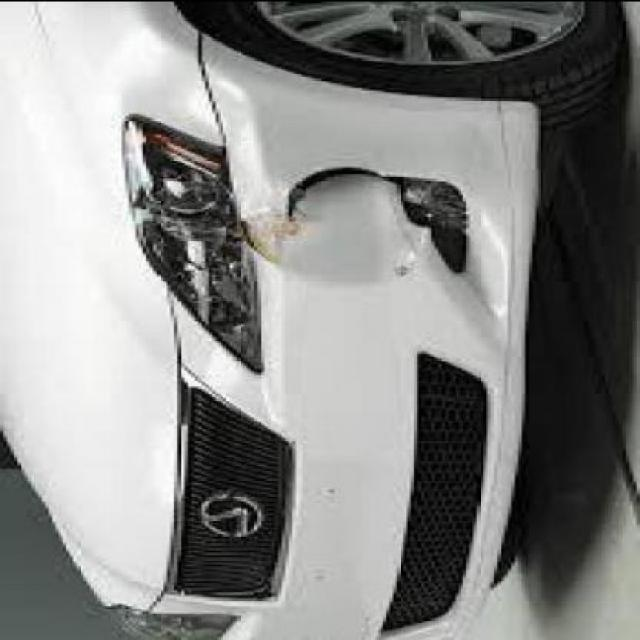damage: (119, 55, 446, 298)
